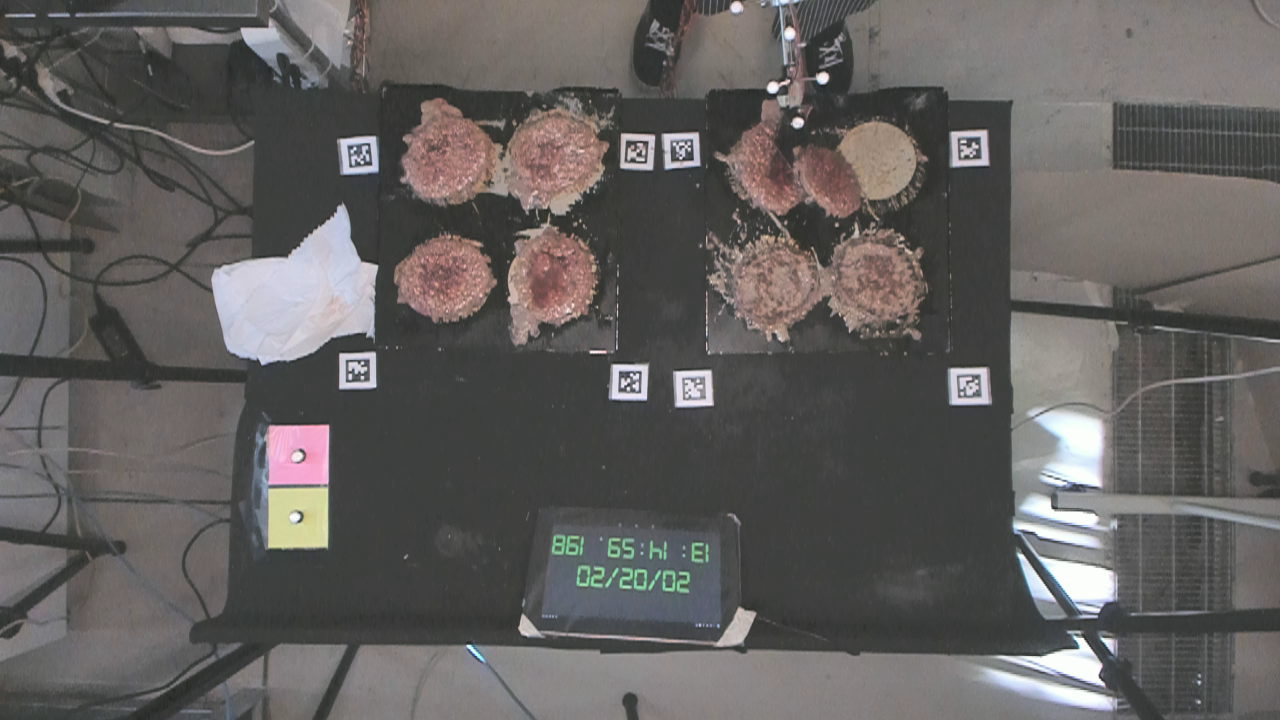hamburger: (505, 115, 608, 198), (395, 239, 492, 326), (510, 236, 603, 324), (731, 242, 826, 324), (833, 238, 924, 321), (403, 121, 493, 204), (724, 117, 802, 211), (799, 143, 867, 214)
marker: (270, 425, 328, 484)
